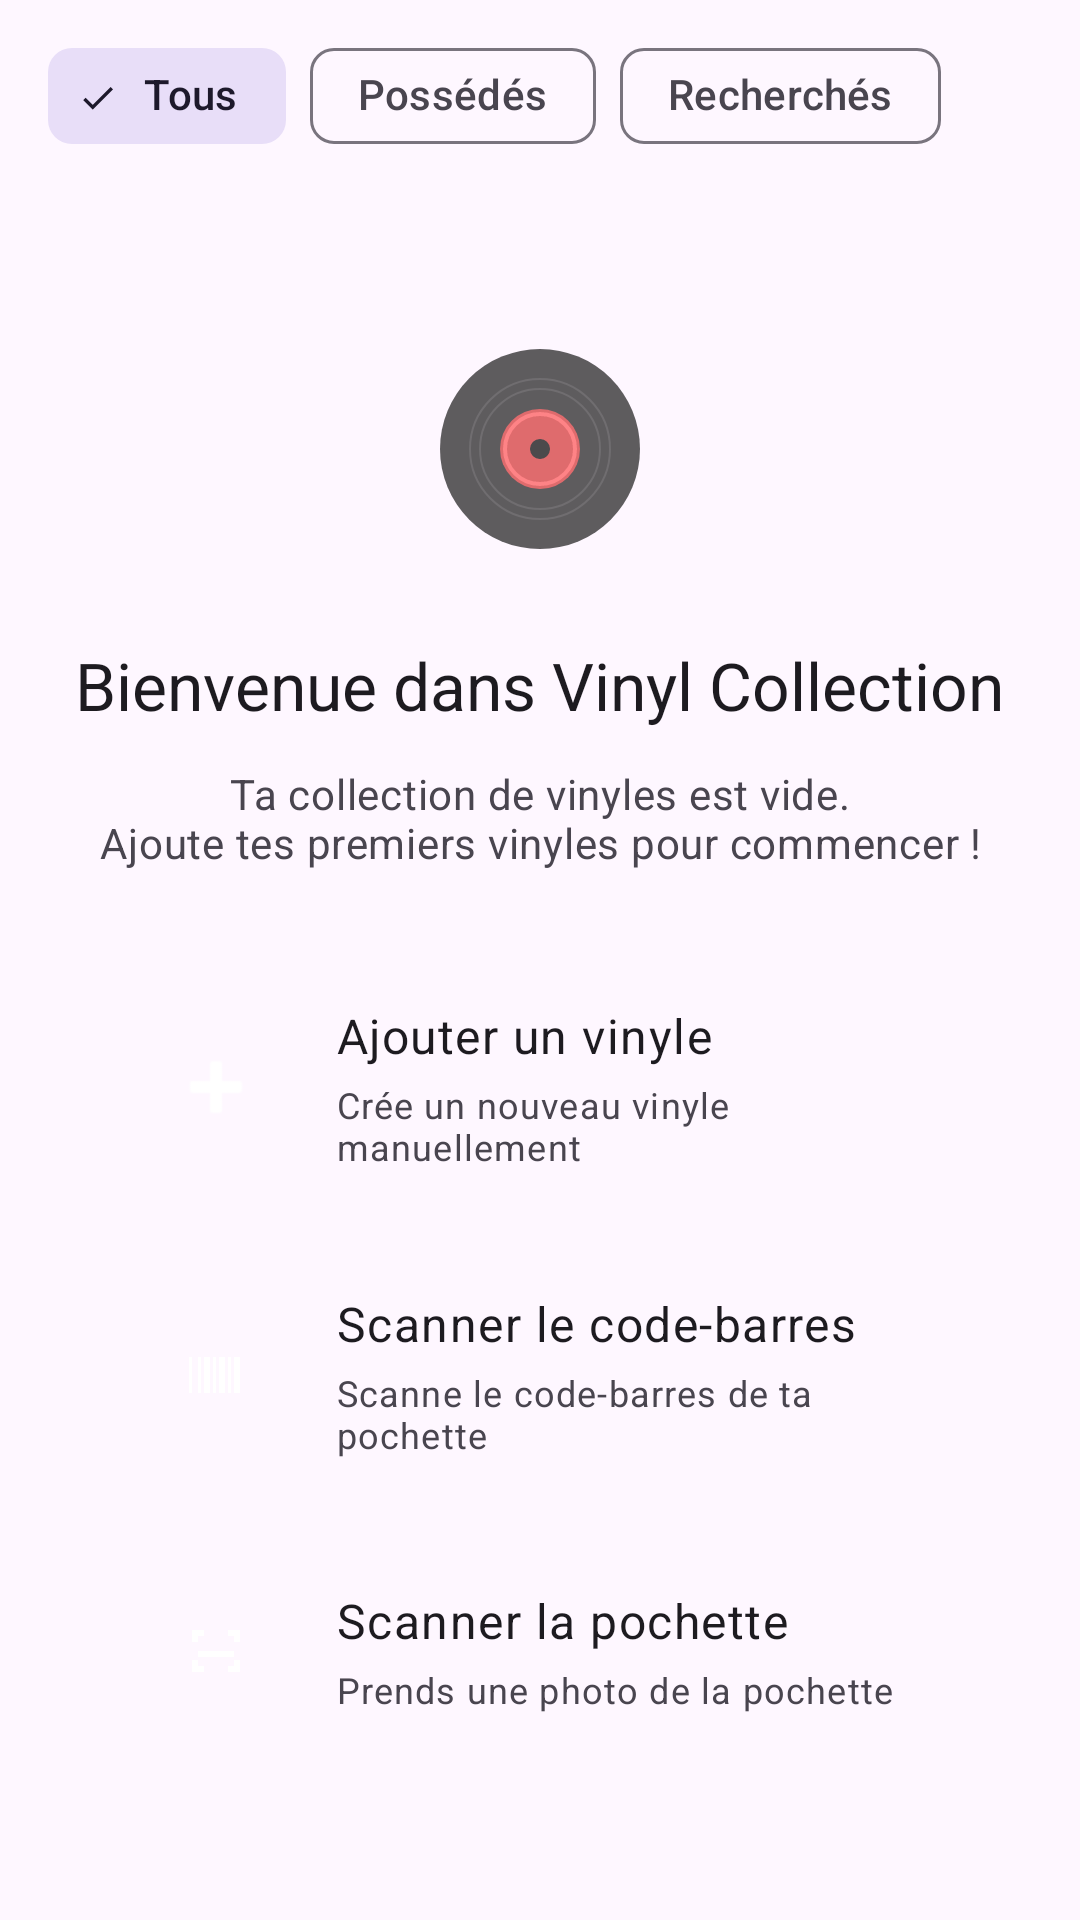

Screen size 1080×1920. Icon name, then its box in pixels as [x1,y1,x2,y2]:
Icône de vinyle: [440,349,640,549]
